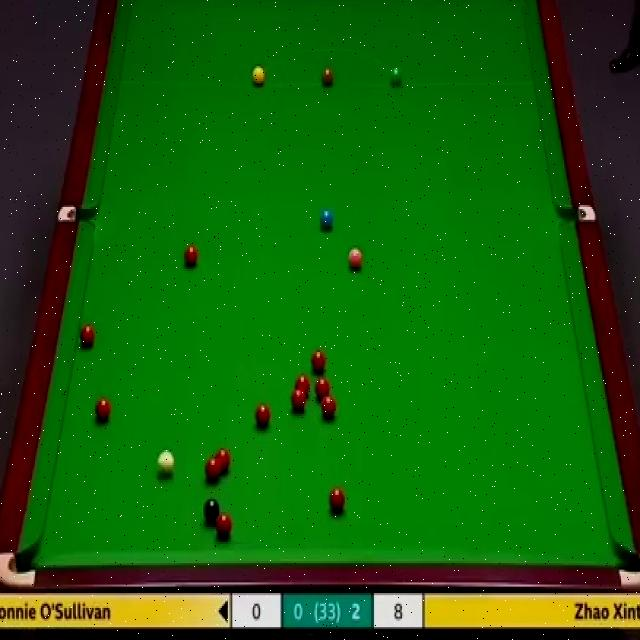black-ball: (204, 498, 219, 522)
blue-ball: (319, 207, 334, 234)
brown-ball: (320, 66, 334, 86)
green-ball: (388, 67, 402, 86)
pink-ball: (348, 249, 363, 273)
red-ball: (216, 509, 233, 540), (92, 395, 110, 422), (320, 392, 336, 420), (205, 456, 222, 482), (309, 350, 328, 373), (79, 323, 94, 349), (255, 401, 270, 427), (215, 448, 231, 472), (331, 488, 345, 515), (292, 390, 308, 413), (294, 374, 310, 395), (316, 377, 330, 400), (183, 248, 199, 266)
white-ball: (157, 452, 175, 477)
yellow-ball: (251, 66, 266, 86)
